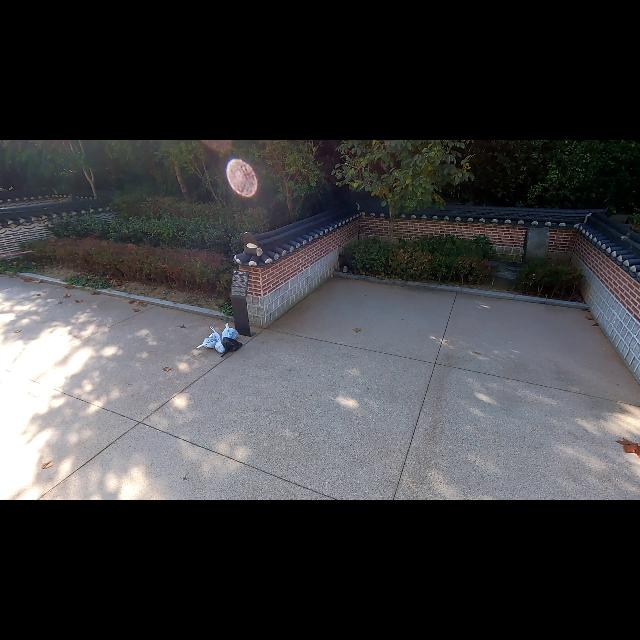trash: (222, 337, 242, 358), (220, 322, 240, 341), (196, 338, 217, 350), (206, 326, 220, 340), (213, 338, 225, 354)
